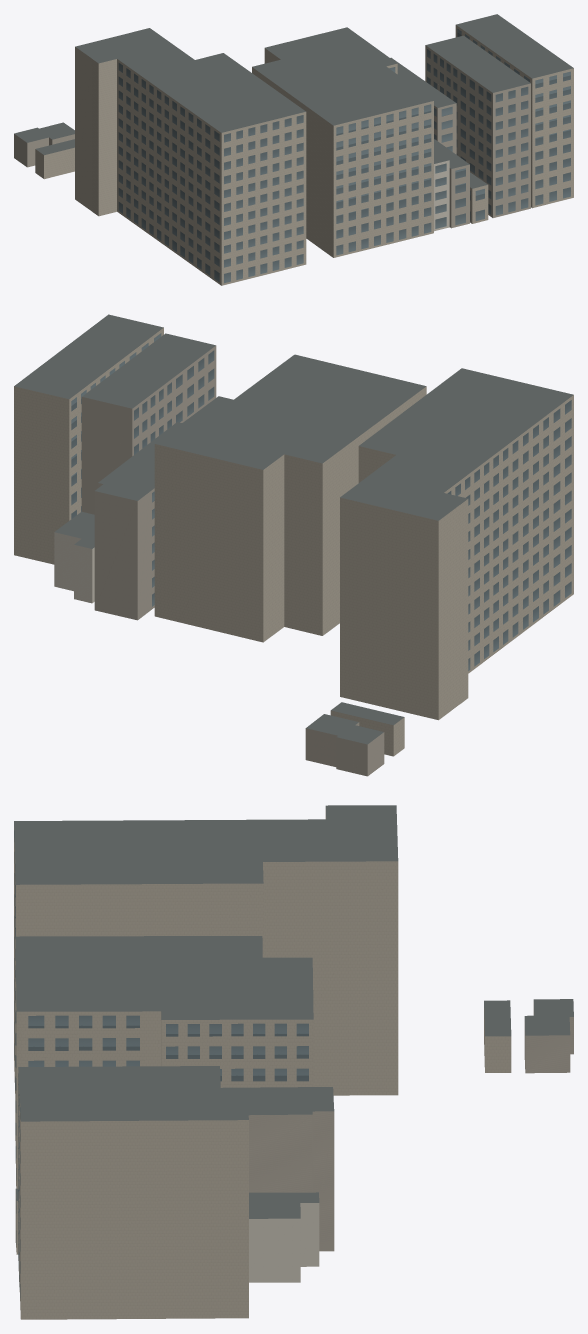
3 renders of one model, top to bottom at view 1: azimuth 30°, elevation 25°; view 2: azimuth 150°, elevation 25°; view 3: azimuth 270°, elevation 25°, orthographic. The views are drawn at different scales.
Visible parts, largest first — view 1: cell-e003-n000_base_stone, cell-e003-n000_base_roof, cell-e003-n000_base_glass, cell-e003-n000_base_tile-wall, cell-e003-n000_base_plaster; view 2: cell-e003-n000_base_stone, cell-e003-n000_base_roof, cell-e003-n000_base_tile-wall, cell-e003-n000_base_glass, cell-e003-n000_base_plaster; view 3: cell-e003-n000_base_stone, cell-e003-n000_base_roof, cell-e003-n000_base_tile-wall, cell-e003-n000_base_glass, cell-e003-n000_base_plaster.
Boxes of the visible parts, x1,y1,x2,y2 form: cell-e003-n000_base_stone: (35, 25, 573, 285); cell-e003-n000_base_roof: (14, 14, 573, 188); cell-e003-n000_base_glass: (118, 28, 570, 283); cell-e003-n000_base_tile-wall: (14, 45, 530, 228); cell-e003-n000_base_plaster: (434, 160, 449, 231); cell-e003-n000_base_stone: (14, 328, 573, 756); cell-e003-n000_base_roof: (14, 314, 573, 744); cell-e003-n000_base_tile-wall: (81, 345, 384, 776); cell-e003-n000_base_glass: (71, 333, 571, 670); cell-e003-n000_base_plaster: (54, 532, 94, 603); cell-e003-n000_base_stone: (14, 809, 511, 1319); cell-e003-n000_base_roof: (14, 805, 573, 1218); cell-e003-n000_base_tile-wall: (18, 1002, 573, 1286); cell-e003-n000_base_glass: (14, 830, 308, 1297); cell-e003-n000_base_plaster: (249, 1203, 319, 1282).
Size of the model in its own units: 92.86 by 35.77 by 77.6.
Materials: 5 (4 with a texture image).
